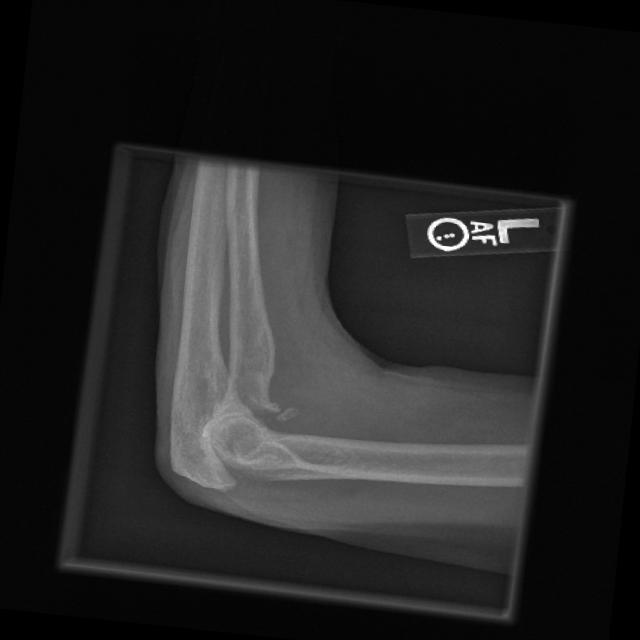elbow positive: (188, 439, 267, 516)
